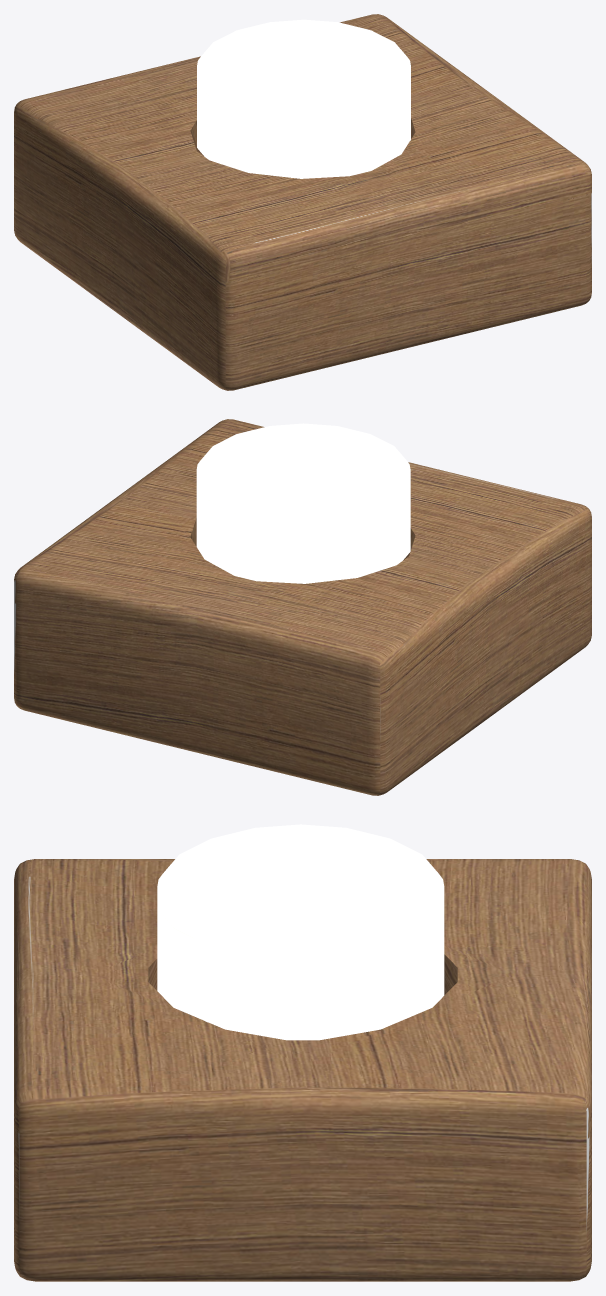
The model's file is Boton hacia ariiba.FBX.
3 renders of one model, top to bottom at view 1: azimuth 30°, elevation 25°; view 2: azimuth 150°, elevation 25°; view 3: azimuth 270°, elevation 25°, orthographic. The views are drawn at different scales.
Visible parts, largest first — view 1: Object001, Cylinder001; view 2: Object001, Cylinder001; view 3: Object001, Cylinder001.
Part boxes in pixels (box(x1,y1,x2,y2)): Object001: box(14, 14, 591, 390); Cylinder001: box(197, 19, 410, 178); Object001: box(14, 419, 591, 795); Cylinder001: box(196, 423, 410, 583); Object001: box(14, 859, 591, 1281); Cylinder001: box(157, 824, 444, 1040).
Size of the model in its own units: 43.25 by 23.61 by 43.25.
